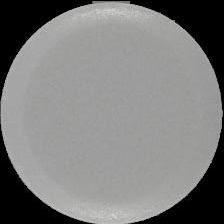50268-063: (0, 0, 224, 224)
